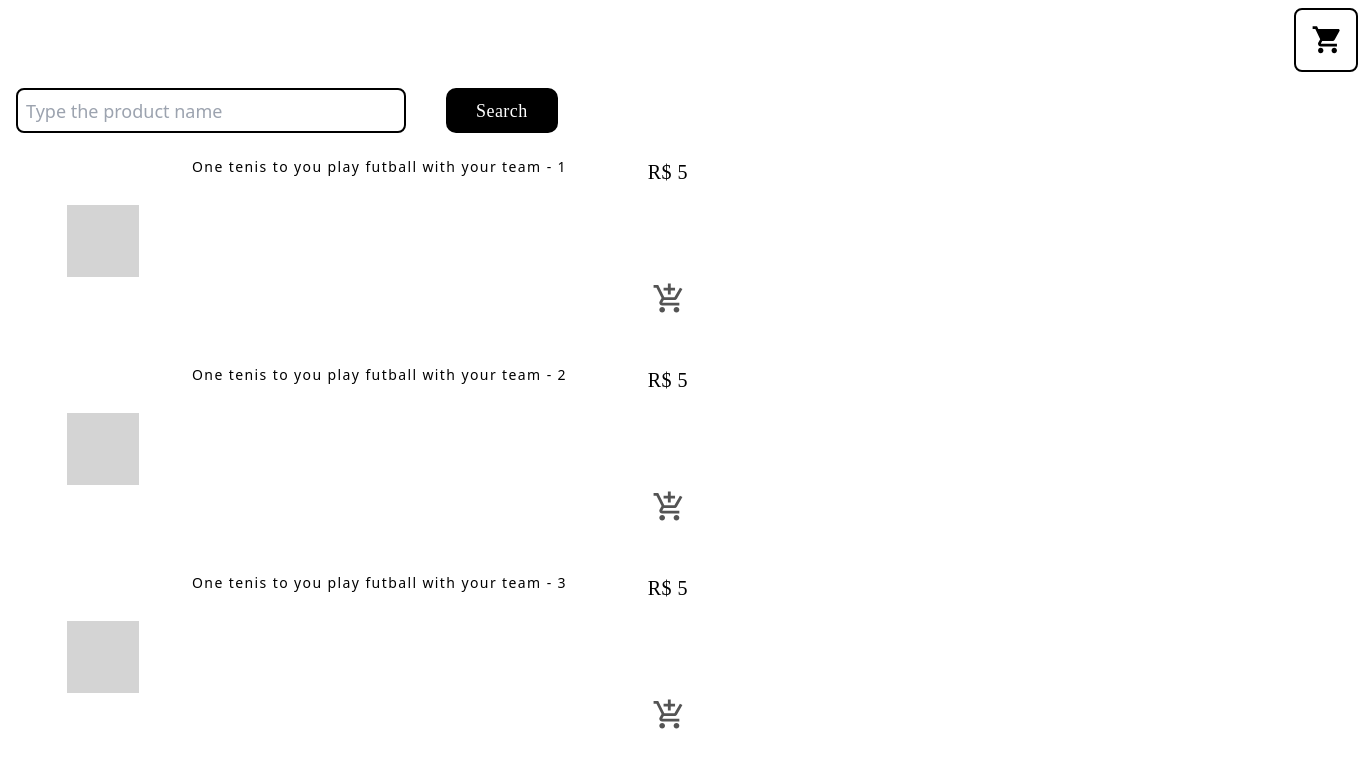
it: Product render › What happen when user search for a product? › It should show one product after search
The image size is (1366, 768).
Check: the button with test id "product-search-btn" is shown, box [446, 88, 558, 133]
Type "One tenis to you play futball with your team - 1" into the search field with test id "product-search-input" at (211, 110), box [16, 88, 406, 133]
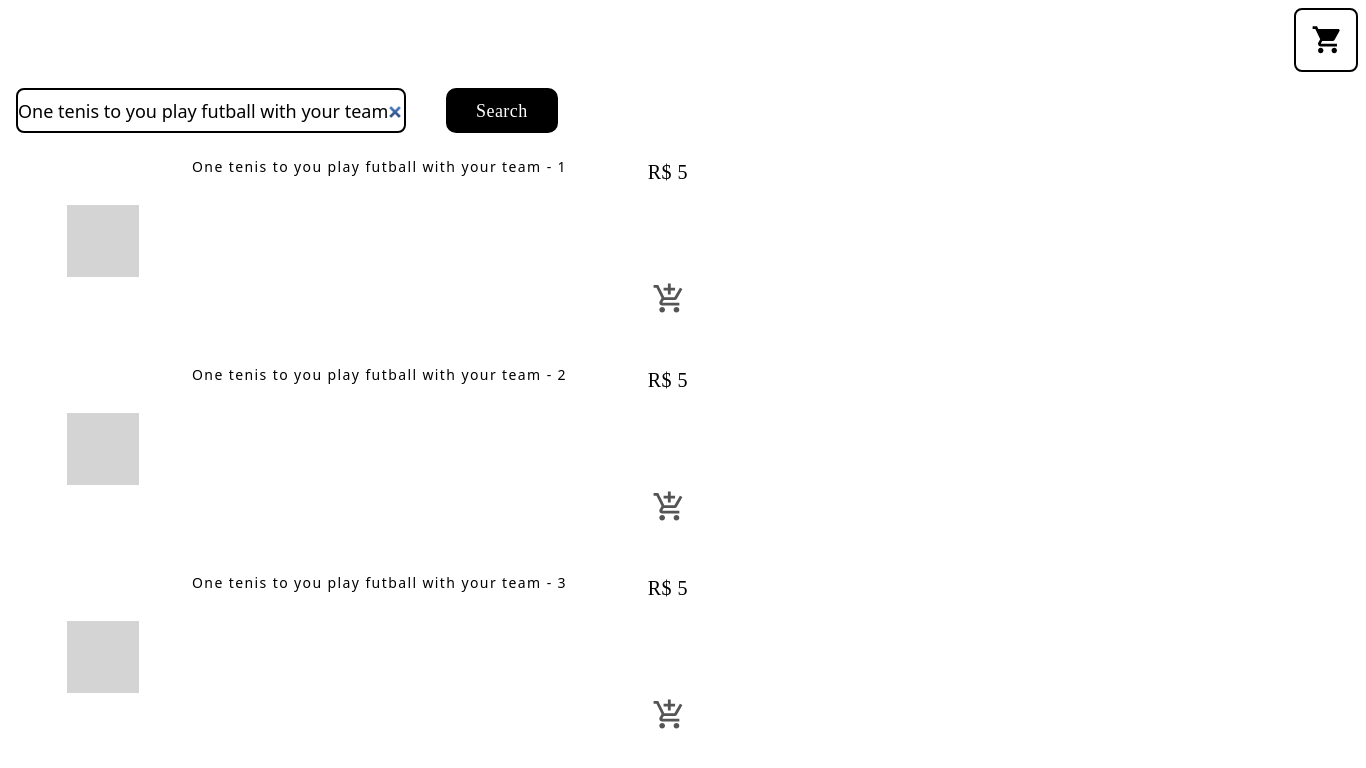
Click the button with test id "product-search-btn" at (502, 110), box [446, 88, 558, 133]
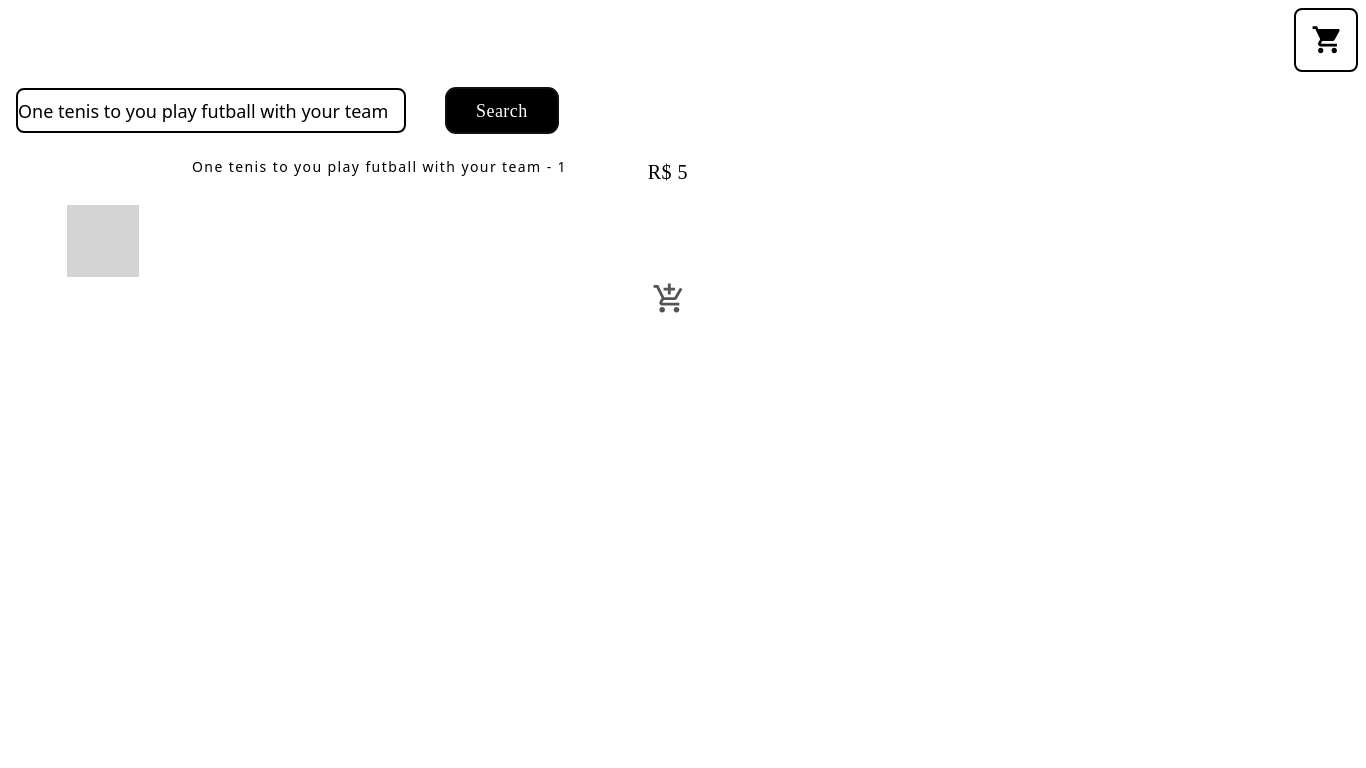
Check: the number of elements with test id "product-box" is 1, box [8, 141, 708, 341]
